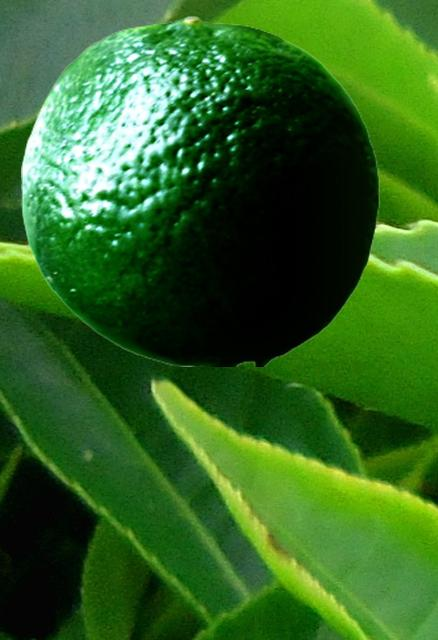calamansi: (21, 15, 378, 365)
